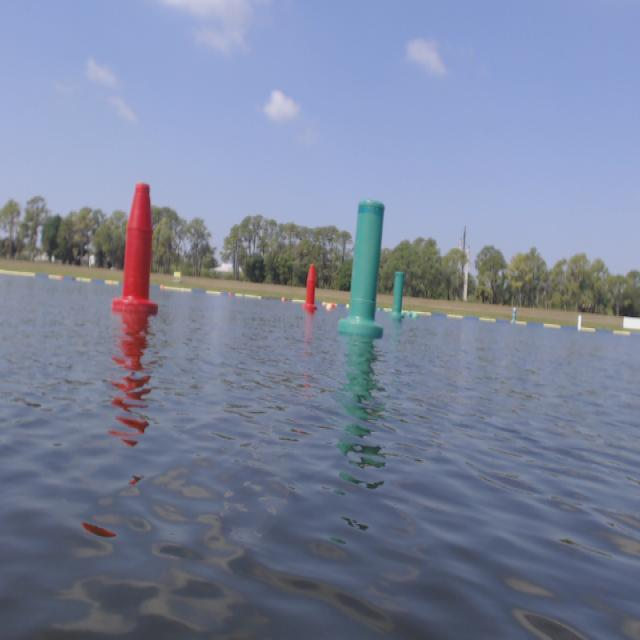Green_Buoy: (345, 192, 382, 350), (390, 266, 407, 326)
Red_Buoy: (113, 183, 160, 325), (305, 262, 320, 315)
